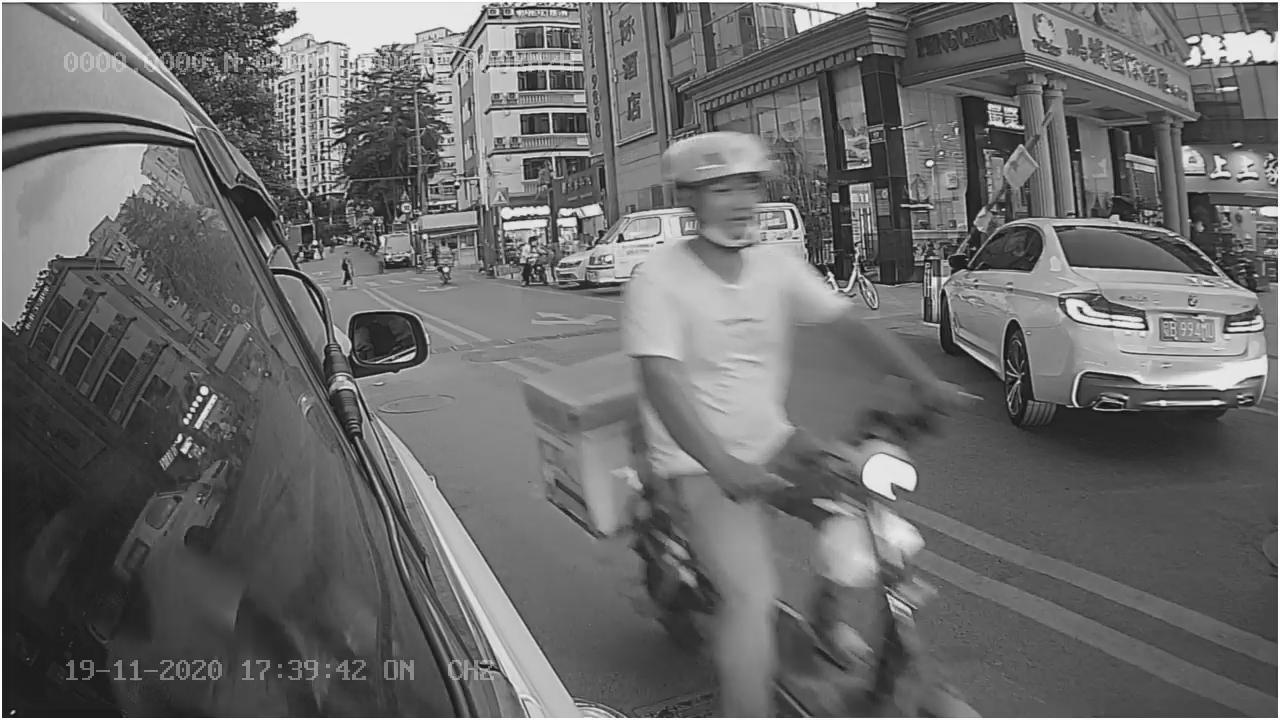person: (625, 133, 809, 424)
